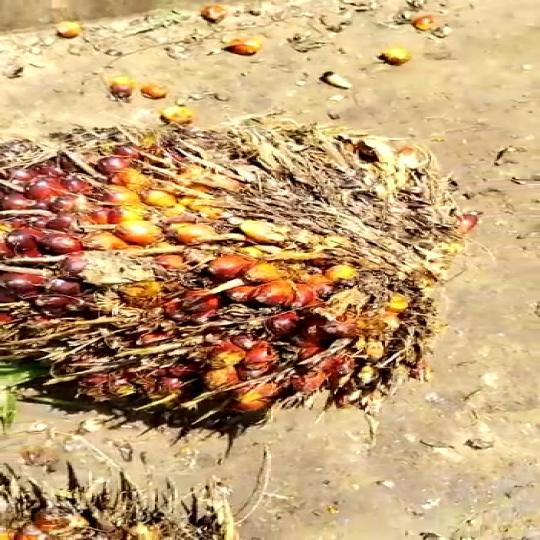masak: (0, 103, 469, 432)
